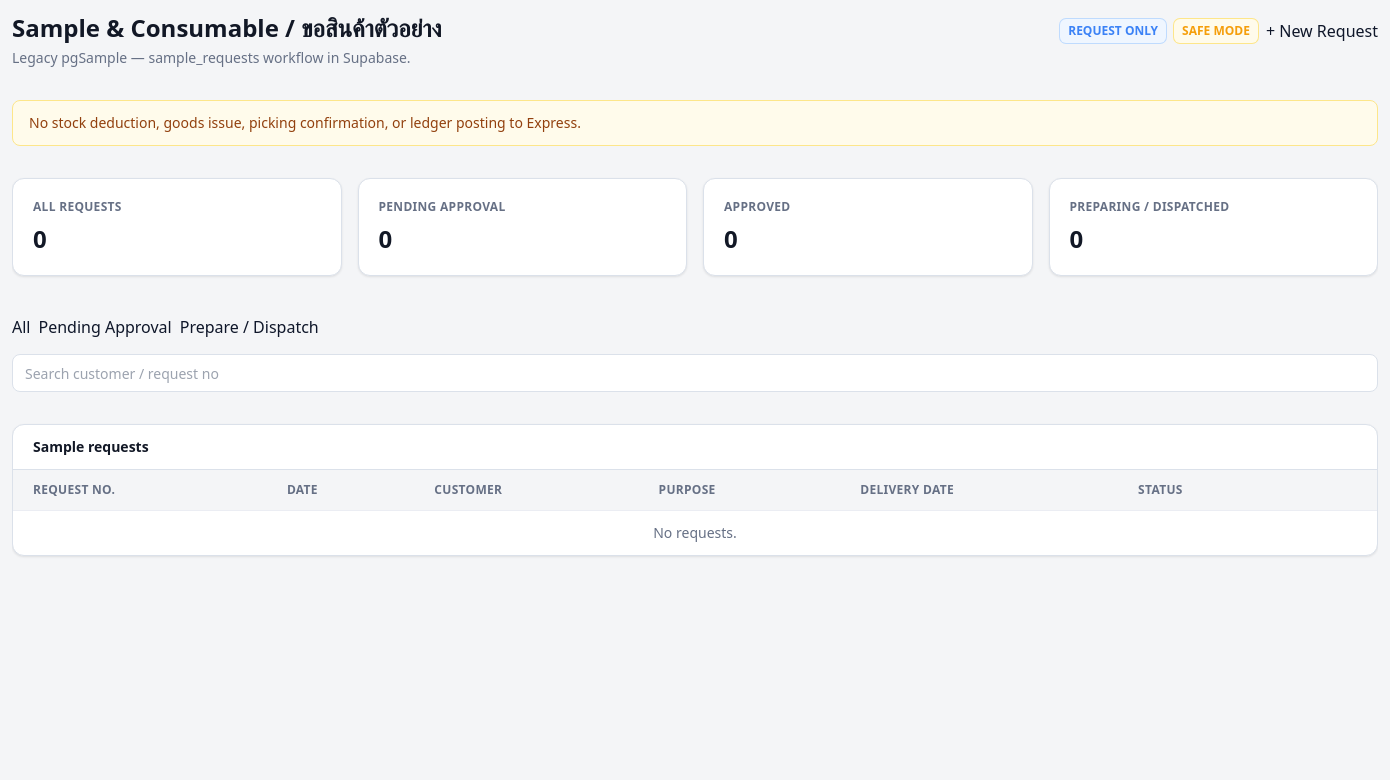
Sales module completion — Sample & Consumable › opens form with purpose and items
This screenshot has width=1390, height=780.
Click the button "+ New Request" at (1322, 31), box [1266,12,1378,50]
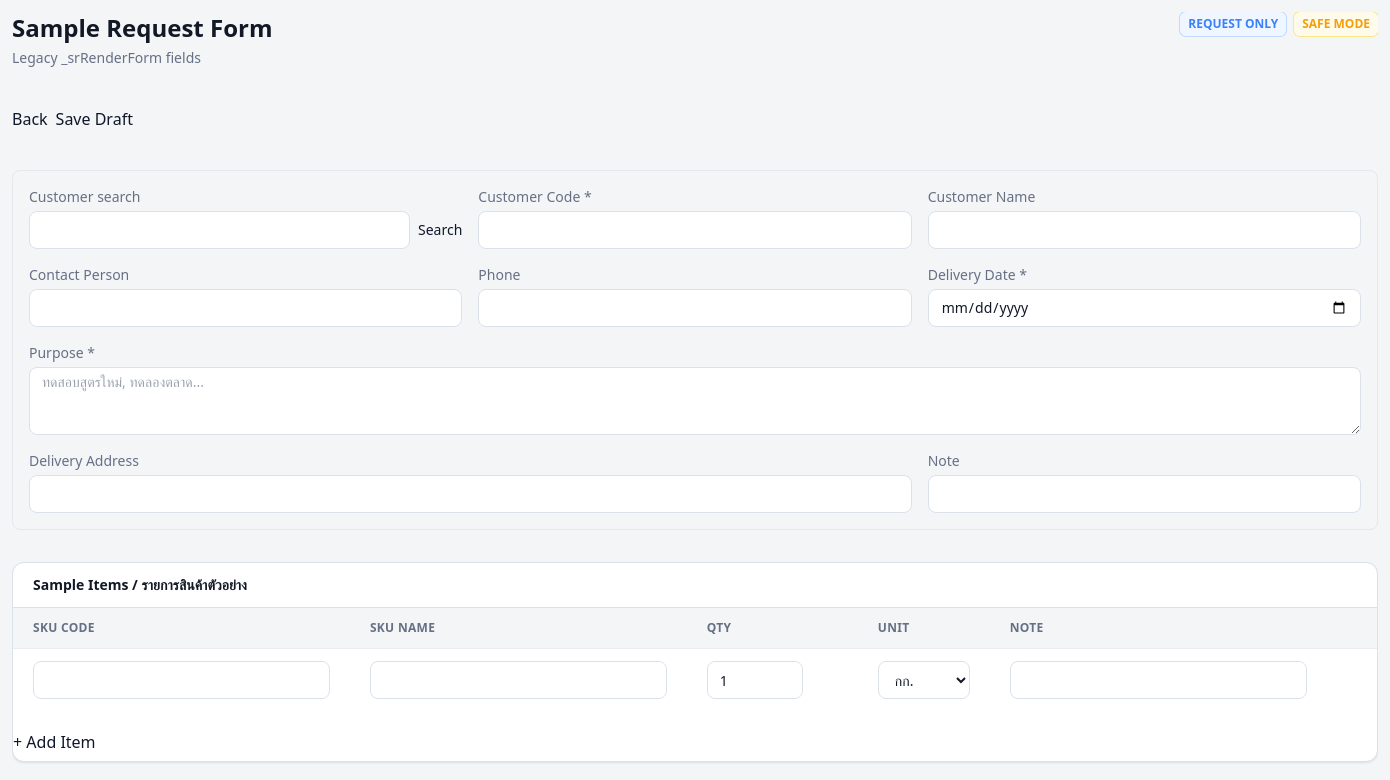
Result: the text box labelled "Purpose *" is shown at [29,367,1361,435]
Result: the heading "Sample Items / รายการสินค้าตัวอย่าง" is shown at [33,575,247,595]
